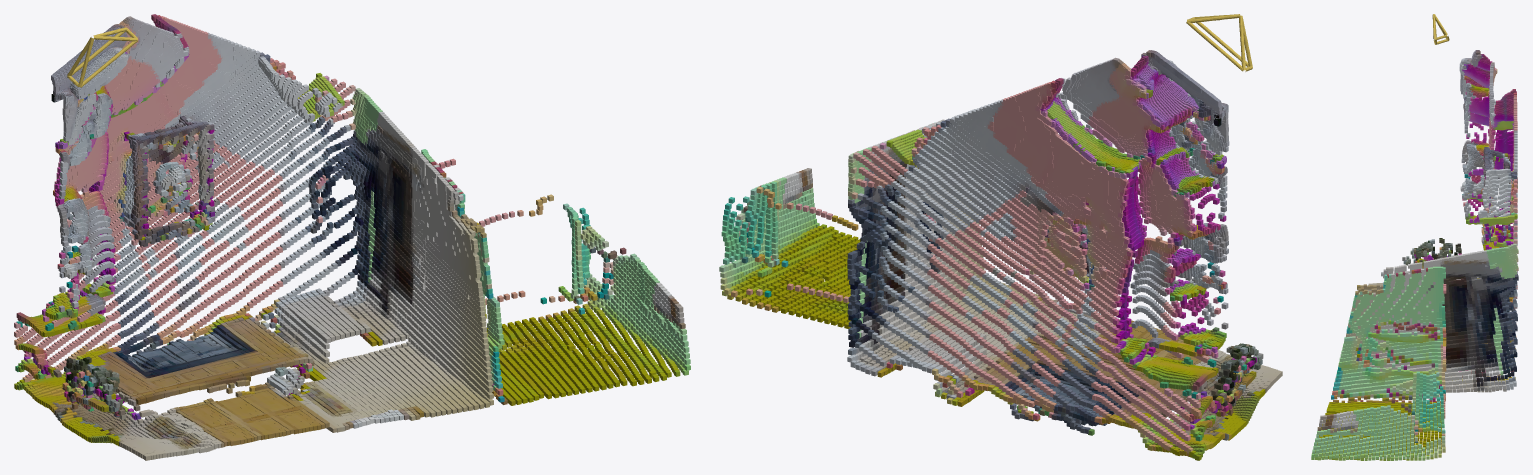
3 renders of one model, left to right at view 1: azimuth 30°, elevation 25°; view 2: azimuth 150°, elevation 25°; view 3: azimuth 270°, elevation 25°, orthographic. The views are drawn at different scales.
Bounding box in the file's own units: 6.51 × 4.75 × 3.2.
